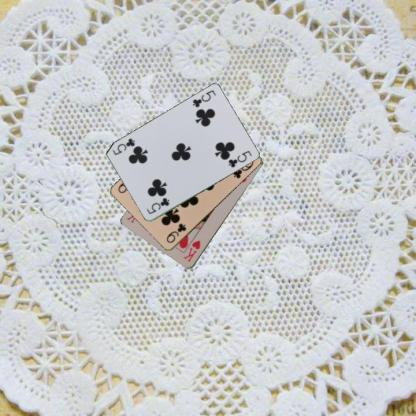5c: (190, 87, 217, 109), (144, 196, 170, 216)
9c: (163, 221, 188, 244)
Kh: (180, 238, 202, 264)
